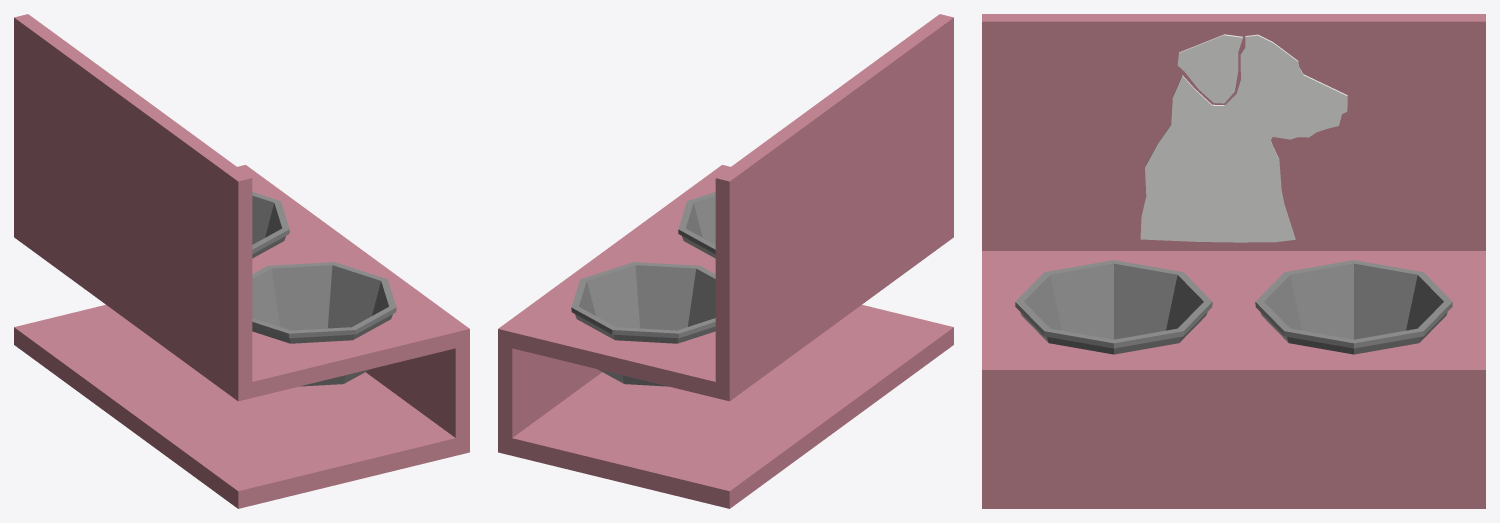
The model's file is food_stand_5.fbx.
The picture shows the model from 3 angles, left to right: view 1: azimuth 30°, elevation 25°; view 2: azimuth 150°, elevation 25°; view 3: azimuth 270°, elevation 25°; orthographic projection. The views are drawn at different scales.
Parts seen in each view (by area): view 1: food_stand_5; view 2: food_stand_5; view 3: food_stand_5.
Part boxes in pixels (x1,y1,x2,y2): food_stand_5: (14,14,469,508); food_stand_5: (498,14,953,508); food_stand_5: (982,14,1485,508).
Bounding box in the file's own units: 34.03 × 57.02 × 45.94.
